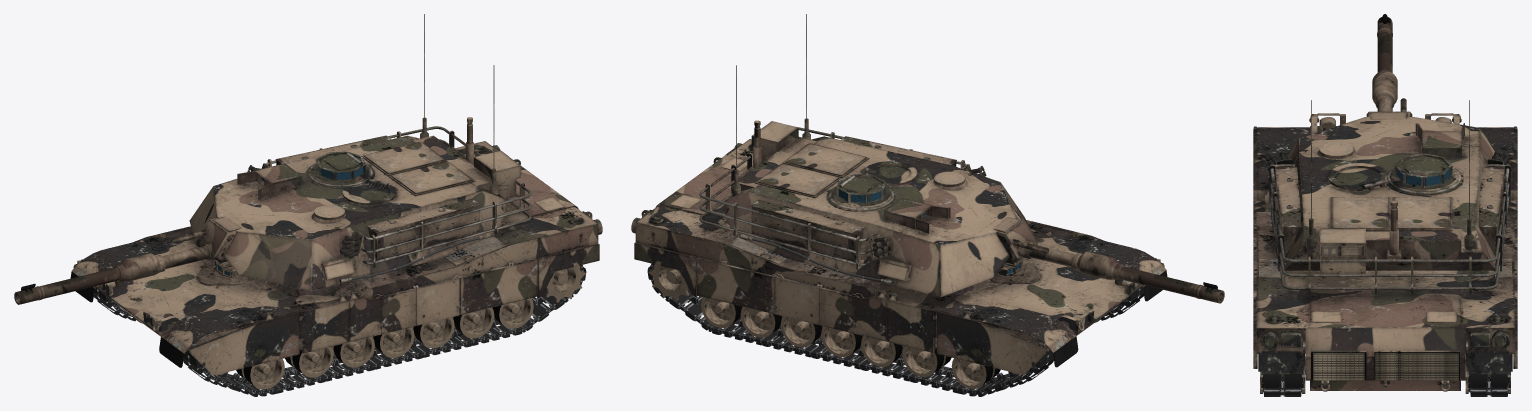
The model's file is abrams.glb.
The picture shows the model from 3 angles, left to right: view 1: azimuth 30°, elevation 25°; view 2: azimuth 150°, elevation 25°; view 3: azimuth 270°, elevation 25°; orthographic projection. The views are drawn at different scales.
Parts seen in each view (by area): view 1: Material_001-material, Material_002-material; view 2: Material_001-material, Material_002-material; view 3: Material_001-material, Material_002-material.
Boxes of the visible parts, x1,y1,x2,y2 form: Material_001-material: [14, 14, 602, 389]; Material_002-material: [93, 265, 586, 396]; Material_001-material: [631, 14, 1224, 389]; Material_002-material: [647, 263, 1144, 396]; Material_001-material: [1253, 14, 1517, 393]; Material_002-material: [1261, 371, 1510, 396].
Bounding box in the file's own units: 1.04 × 0.4728 × 0.3891.
2 materials, 2 textured.
